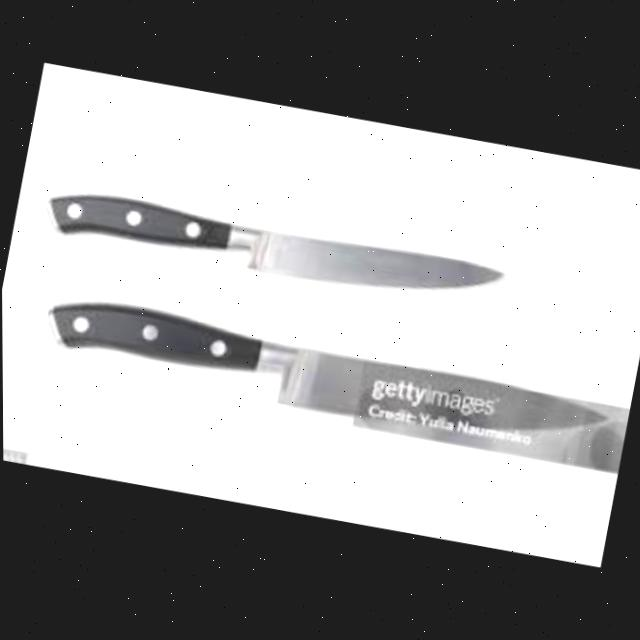Knife: (37, 283, 632, 481), (42, 178, 507, 320)
